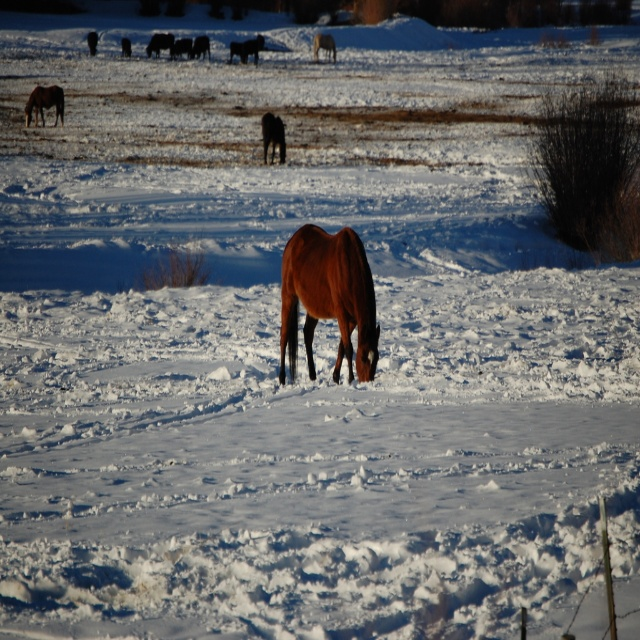Horse: (274, 216, 382, 388), (21, 82, 66, 131), (260, 108, 289, 165), (314, 33, 338, 65)
